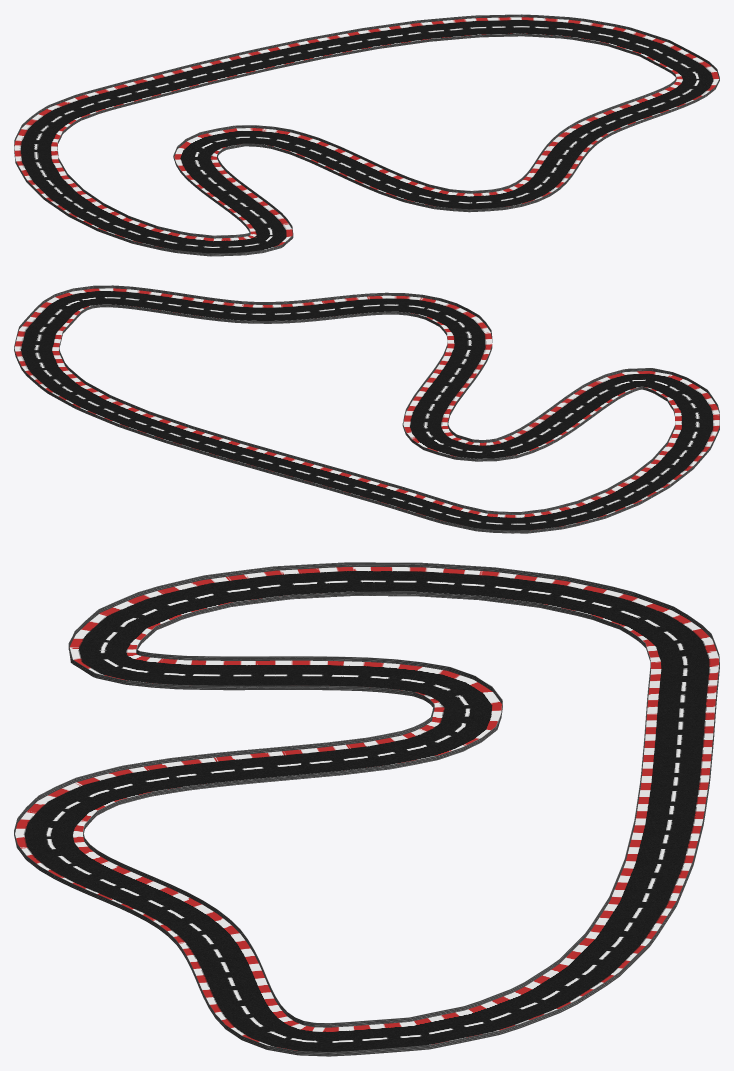
Rendered from CircuitoFinal.fbx.
3 views of the same model, one above another, from view 1: azimuth 30°, elevation 25°; view 2: azimuth 150°, elevation 25°; view 3: azimuth 270°, elevation 25° (orthographic). The views are drawn at different scales.
Visible parts, largest first — view 1: Suelo, ParedExt, ParedInt; view 2: Suelo, ParedExt, ParedInt; view 3: Suelo, ParedExt, ParedInt.
Part boxes in pixels (x1=…): Suelo: x1=14, y1=17, x2=718, y2=253; ParedExt: x1=14, y1=14, x2=719, y2=256; ParedInt: x1=57, y1=33, x2=676, y2=238; Suelo: x1=14, y1=288, x2=719, y2=530; ParedExt: x1=14, y1=285, x2=719, y2=533; ParedInt: x1=59, y1=304, x2=675, y2=514; Suelo: x1=15, y1=567, x2=718, y2=1051; ParedExt: x1=14, y1=562, x2=719, y2=1056; ParedInt: x1=83, y1=591, x2=650, y2=1027.
Size of the model in its own units: 22468 by 395 by 13610.
2 materials, 2 textured.
